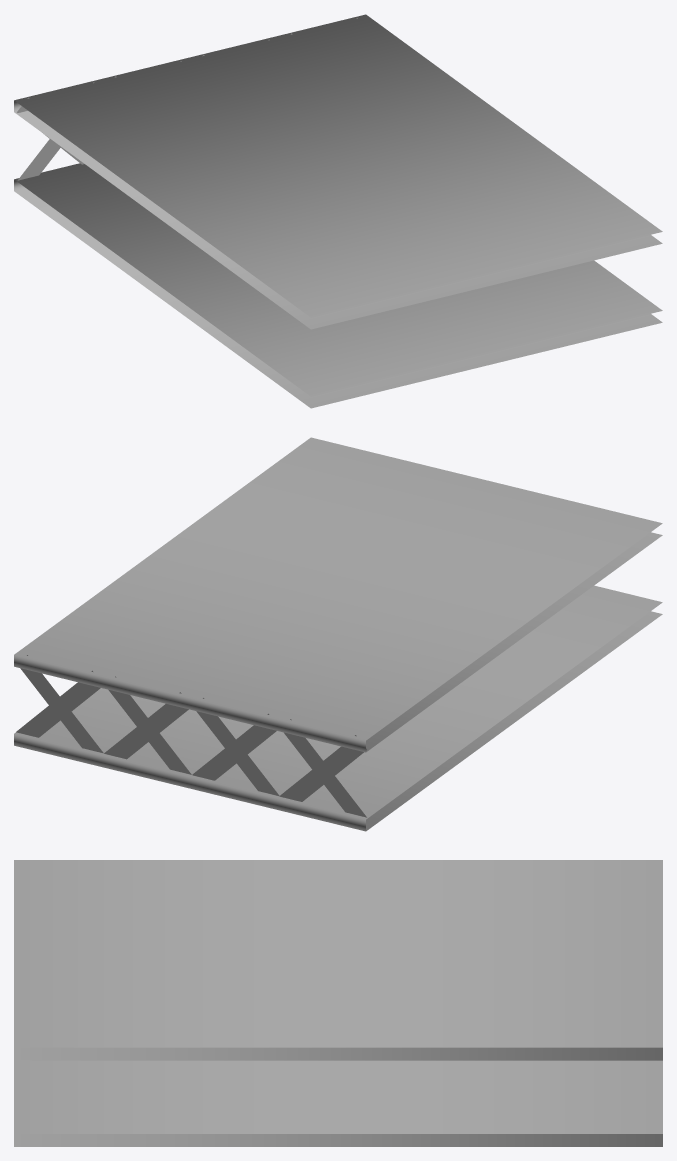
Rendered from platform2.fbx.
3 renders of one model, top to bottom at view 1: azimuth 30°, elevation 25°; view 2: azimuth 150°, elevation 25°; view 3: azimuth 270°, elevation 25°, orthographic. The views are drawn at different scales.
Parts seen in each view (by area): view 1: Cube; view 2: Cube; view 3: Cube.
Boxes of the visible parts, x1,y1,x2,y2 form: Cube: [14, 14, 662, 408]; Cube: [14, 437, 662, 831]; Cube: [14, 860, 662, 1146].
Bounding box in the file's own units: 667 × 167 × 975.
